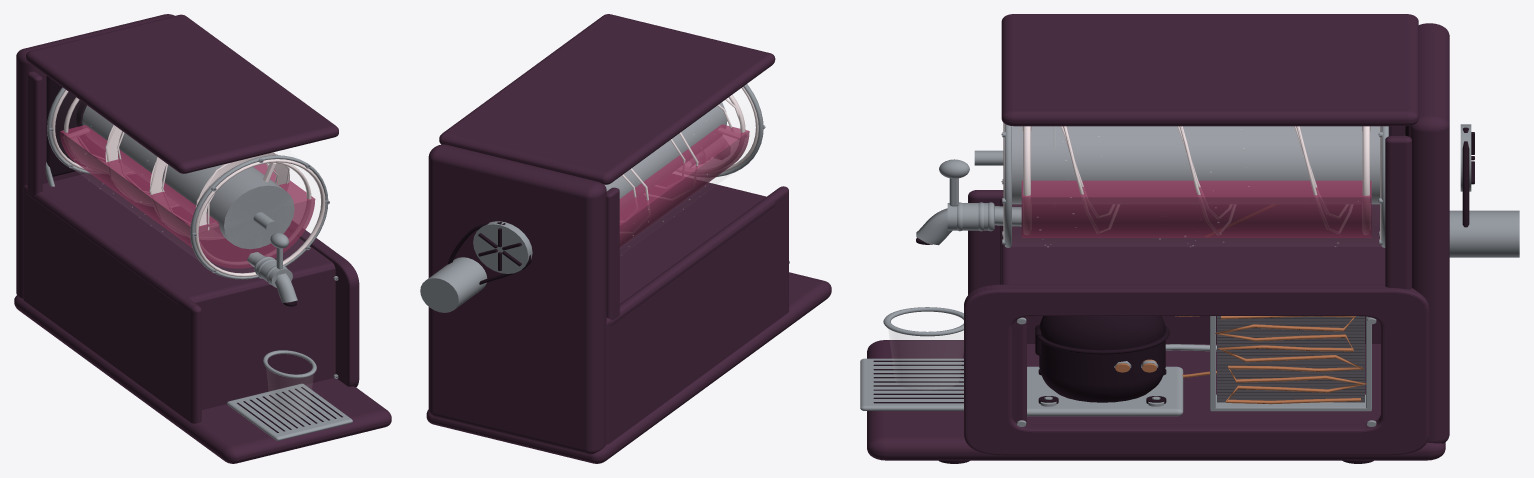
The model's file is slushie.glb.
3 views of the same model, side by side, from view 1: azimuth 30°, elevation 25°; view 2: azimuth 150°, elevation 25°; view 3: azimuth 270°, elevation 25° (orthographic). The views are drawn at different scales.
Visible parts, largest first — view 1: Chassis, Liquid and ice, Cold evaporator drum, Tap and drip tray, Scraper and mixing auger, Clear freezing bowl, Motor and belt drive; view 2: Chassis, Liquid and ice, Motor and belt drive, Cold evaporator drum, Scraper and mixing auger, Clear freezing bowl, Tap and drip tray; view 3: Chassis, Refrigeration loop, Cold evaporator drum, Liquid and ice, Tap and drip tray, Motor and belt drive, Scraper and mixing auger, Clear freezing bowl.
Boxes of the visible parts, box(x1,y1,x2,y2) form: Chassis: box(14, 14, 391, 463); Liquid and ice: box(60, 125, 315, 268); Cold evaporator drum: box(76, 101, 294, 249); Tap and drip tray: box(227, 233, 352, 440); Scraper and mixing auger: box(63, 97, 311, 264); Clear freezing bowl: box(47, 87, 329, 279); Motor and belt drive: box(46, 76, 104, 176); Chassis: box(426, 14, 831, 463); Liquid and ice: box(619, 124, 749, 247); Motor and belt drive: box(420, 221, 532, 312); Cold evaporator drum: box(604, 102, 727, 209); Scraper and mixing auger: box(620, 94, 746, 232); Clear freezing bowl: box(628, 84, 765, 246); Tap and drip tray: box(690, 137, 789, 263); Chassis: box(867, 14, 1449, 463); Refrigeration loop: box(1027, 135, 1405, 416); Cold evaporator drum: box(1012, 126, 1391, 204); Liquid and ice: box(1021, 180, 1371, 237); Tap and drip tray: box(860, 159, 1021, 410); Motor and belt drive: box(1405, 124, 1519, 257); Scraper and mixing auger: box(974, 126, 1370, 234); Clear freezing bowl: box(1001, 123, 1388, 247).
Size of the model in its own units: 0.261 by 0.4059 by 0.6762.
